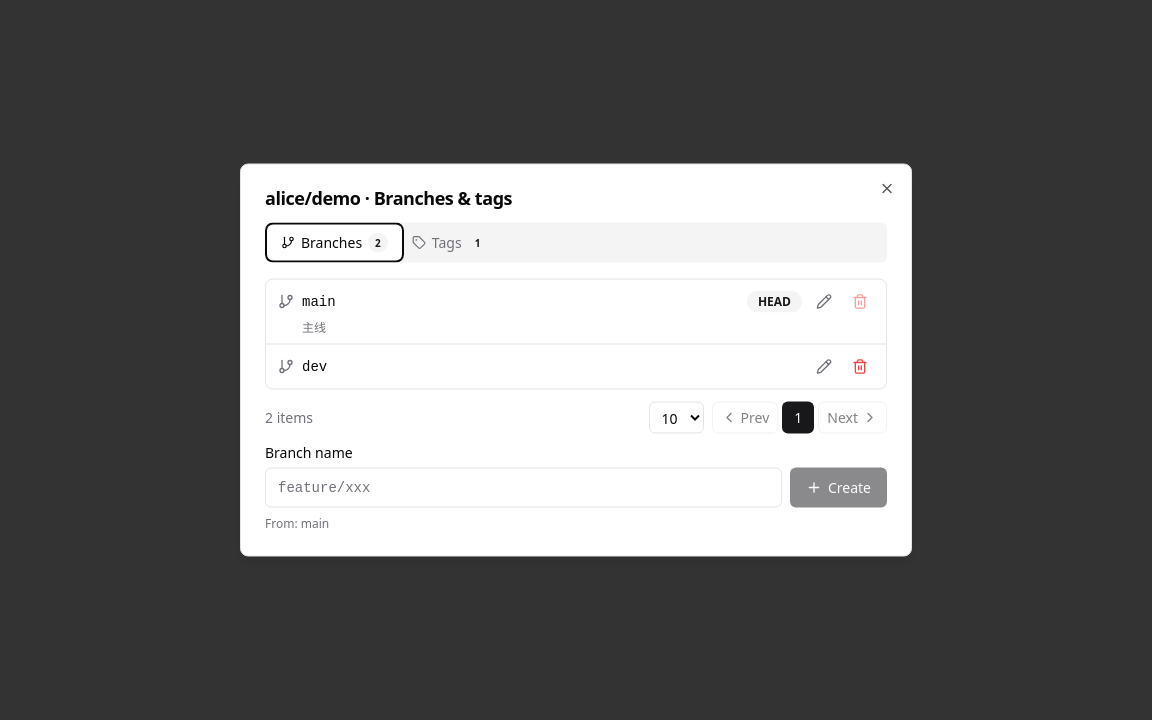
RefsDialog › 分支与标签分属独立 tab，并展示各自备注
expect the text "main" is shown: met, box [302, 294, 336, 310]
expect the text "主线" is shown: met, box [302, 318, 326, 336]
Click the tab "Tags 1": (450, 242) [400, 226, 499, 258]
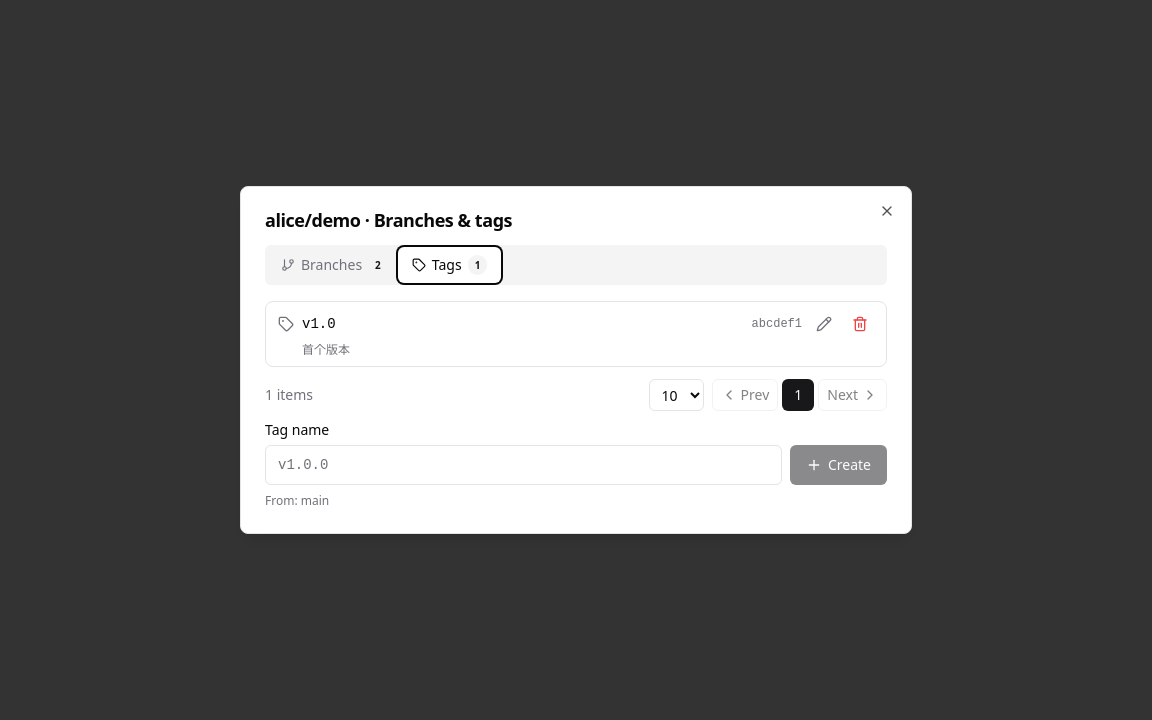
expect the text "v1.0" is shown: met, box [302, 316, 336, 332]
expect the text "首个版本" is shown: met, box [302, 341, 350, 358]
